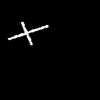single_crochet: (8, 22, 47, 44)
